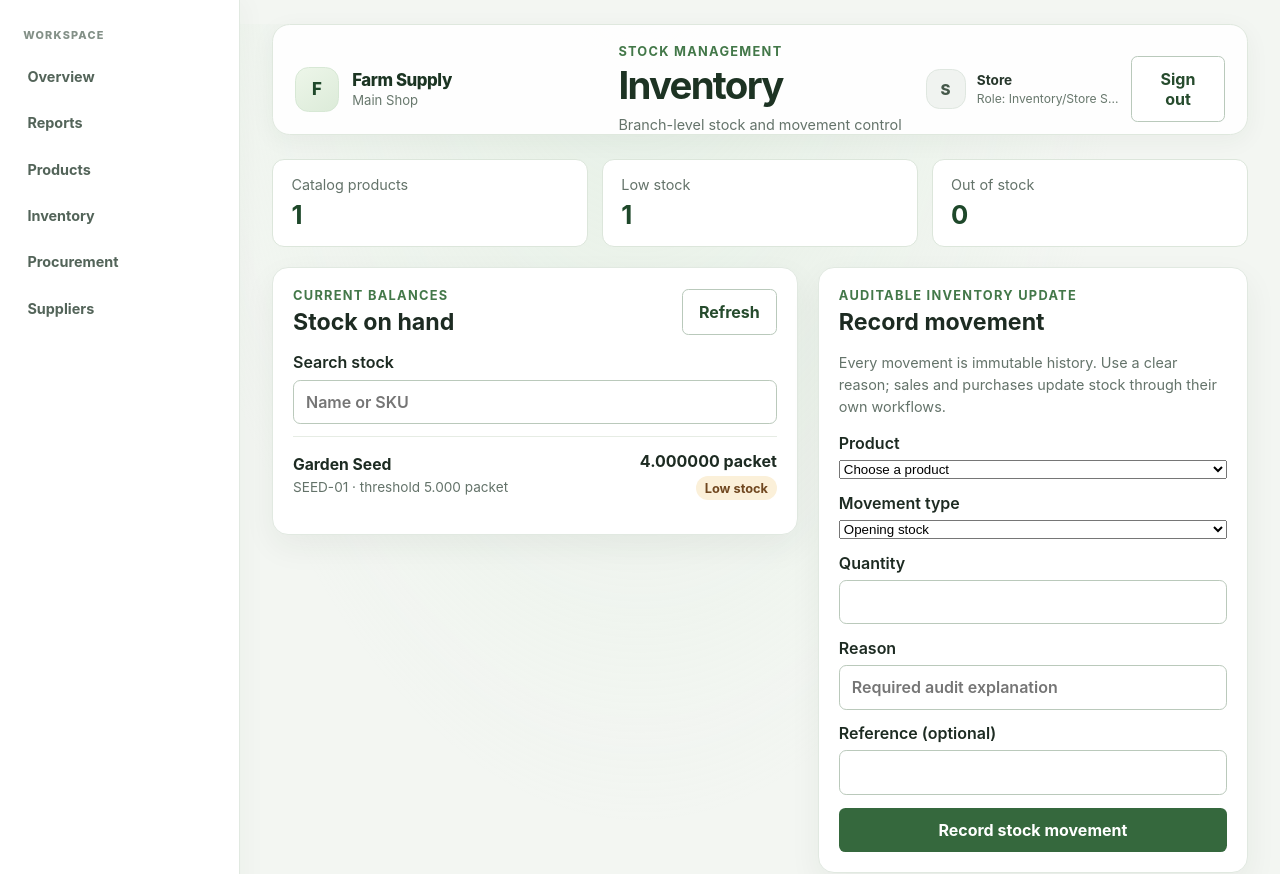
Test: inventory screen › shows low stock and records an attributed manual movement
expect the heading "Stock on hand" is shown: met, box 293,308 -> 454,336
expect the text "Low stock" next to "Out of stock" is shown: met, box 621,176 -> 691,193
Select "Garden Seed · SEED-01" in the dropdown labelled "Product" at [1033, 470], box 839,460 -> 1227,479
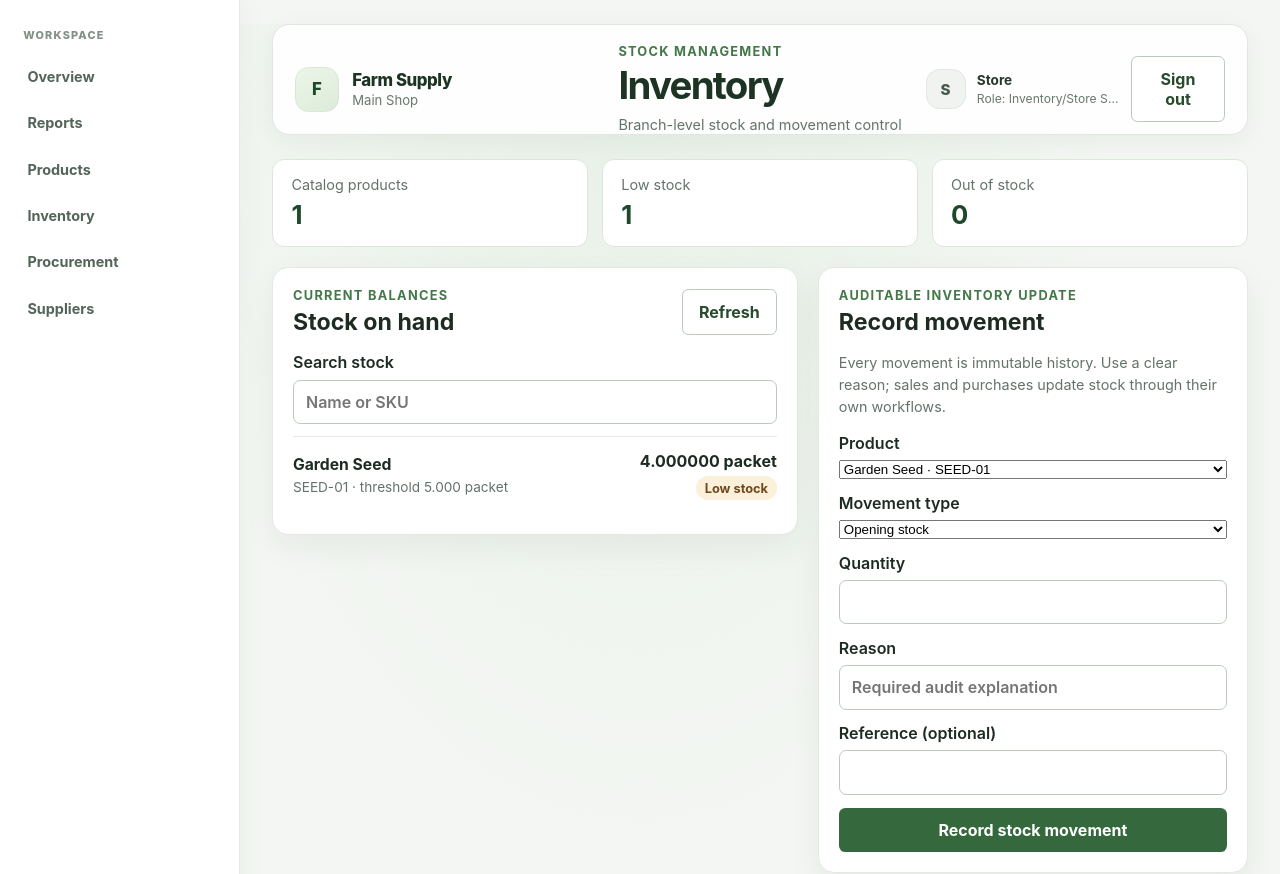
Type "2" into the number field labelled "Quantity" at [1033, 602], box 839,580 -> 1227,624
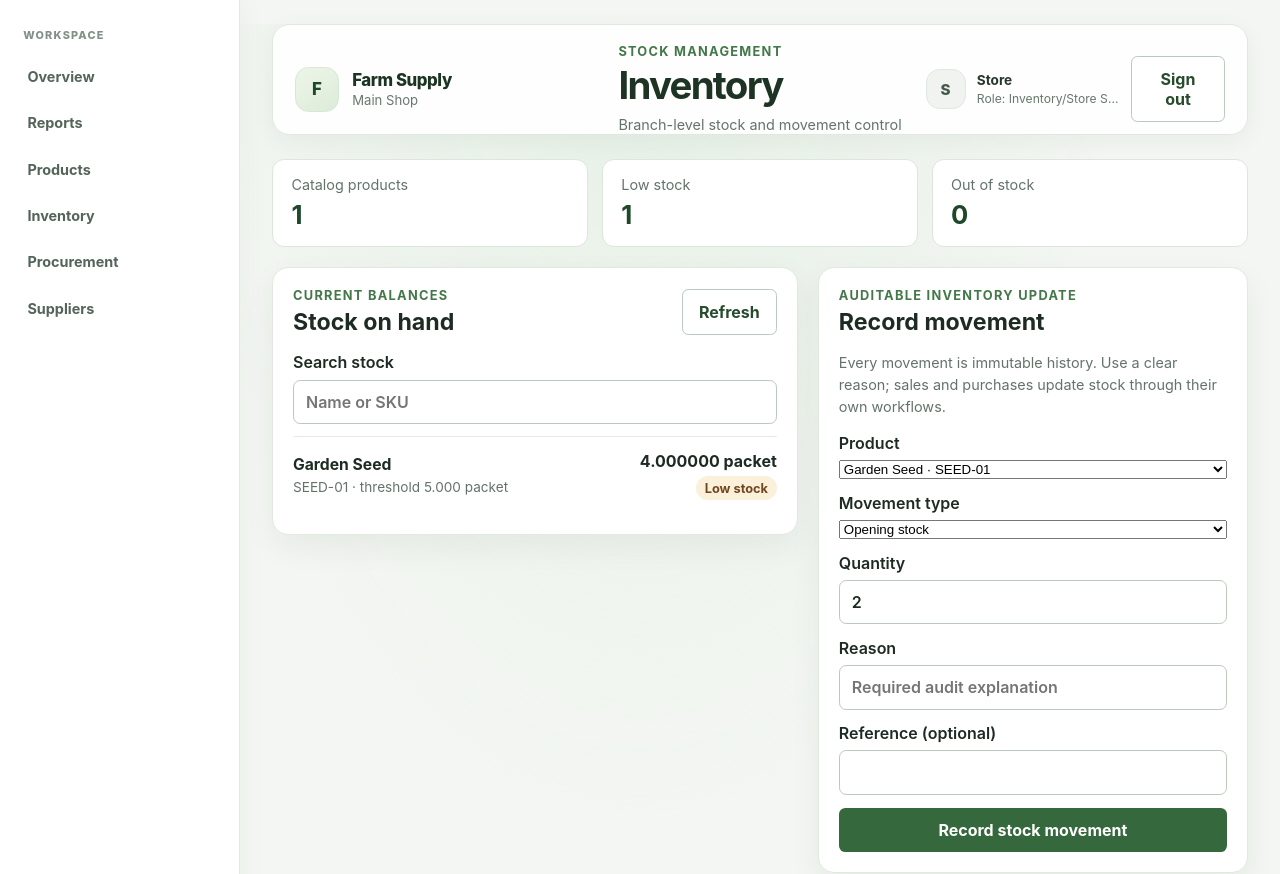
Type "Physical count correction" into the field labelled "Reason" at [1033, 687], box 839,665 -> 1227,710
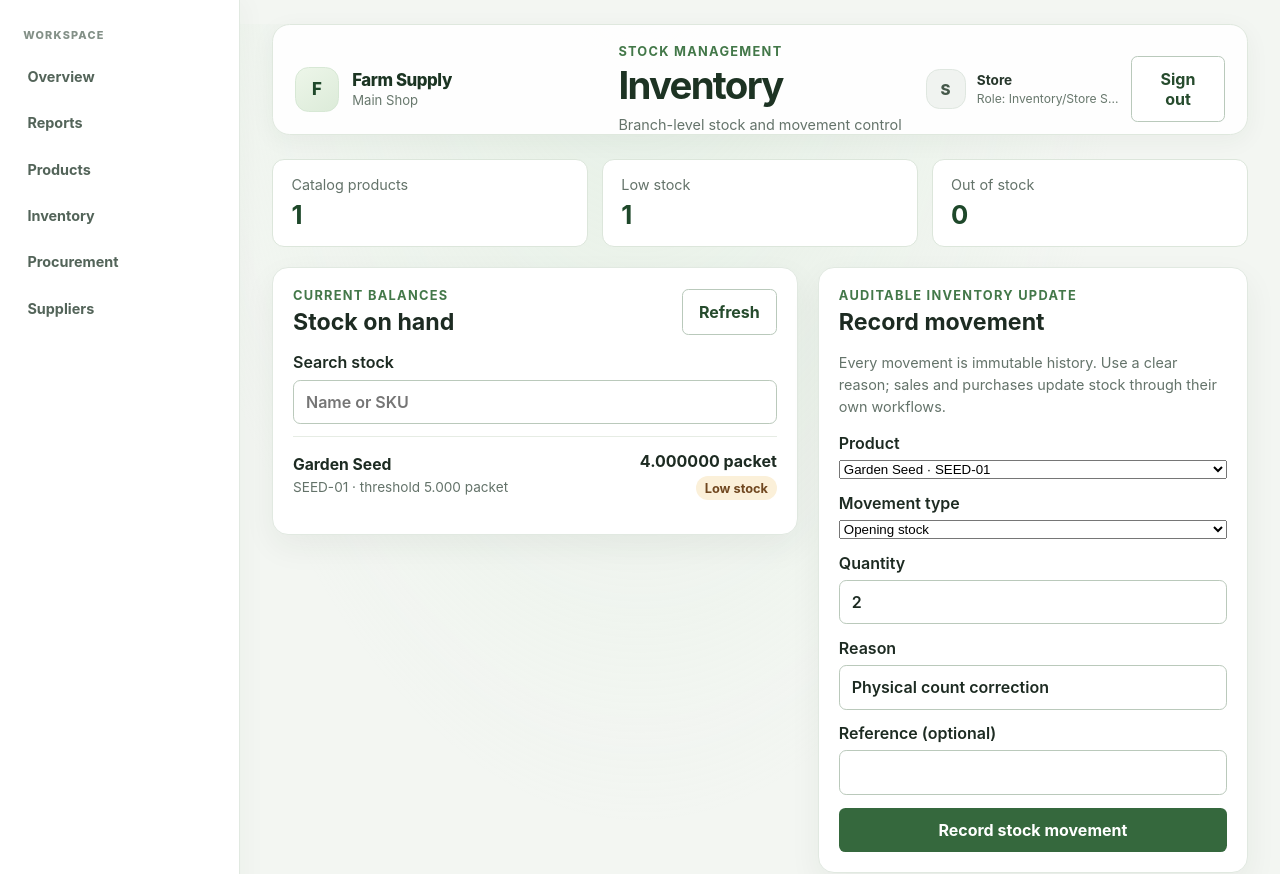
Select "Adjustment in" in the dropdown labelled "Movement type" at [1033, 530], box 839,520 -> 1227,539
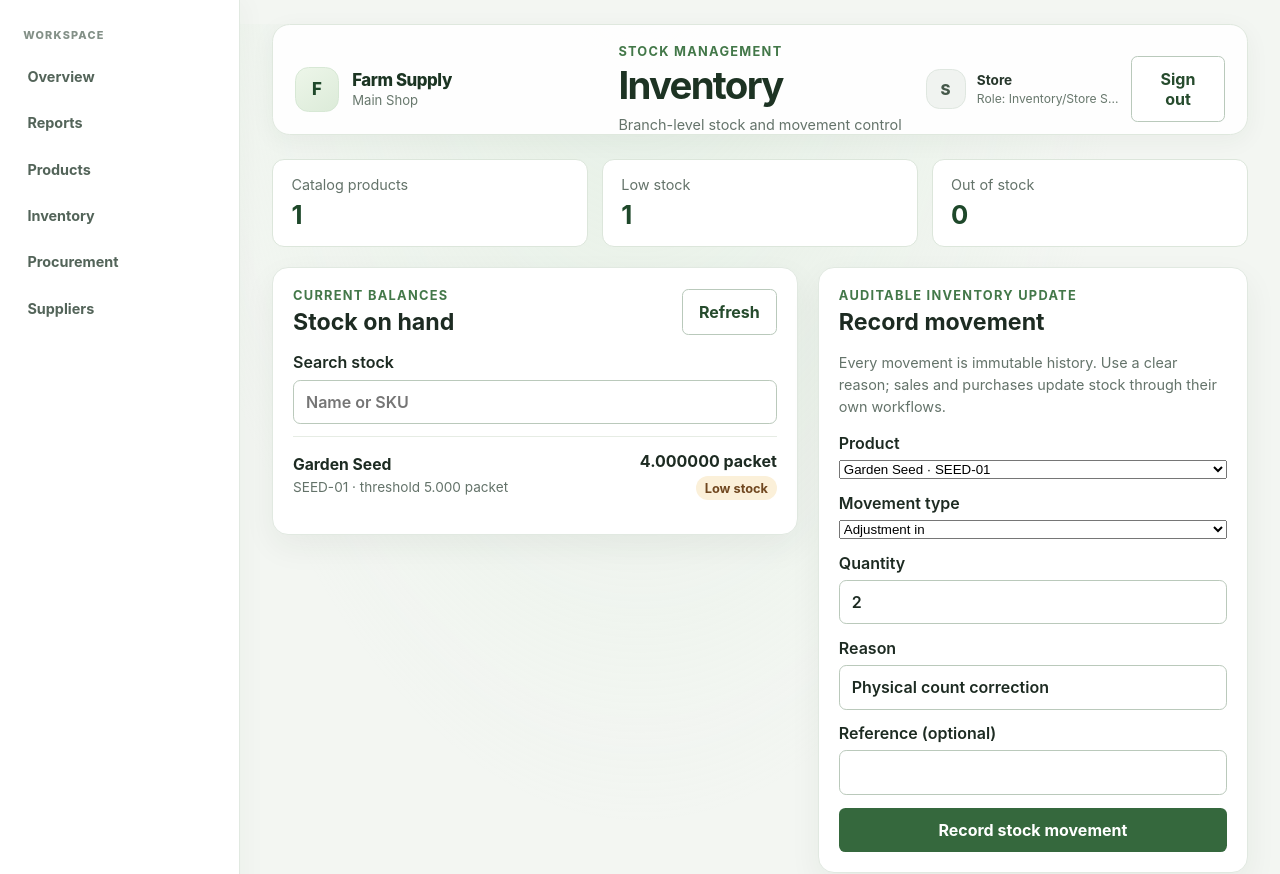
Click the button "Record stock movement" at [1033, 830], box 839,808 -> 1227,852
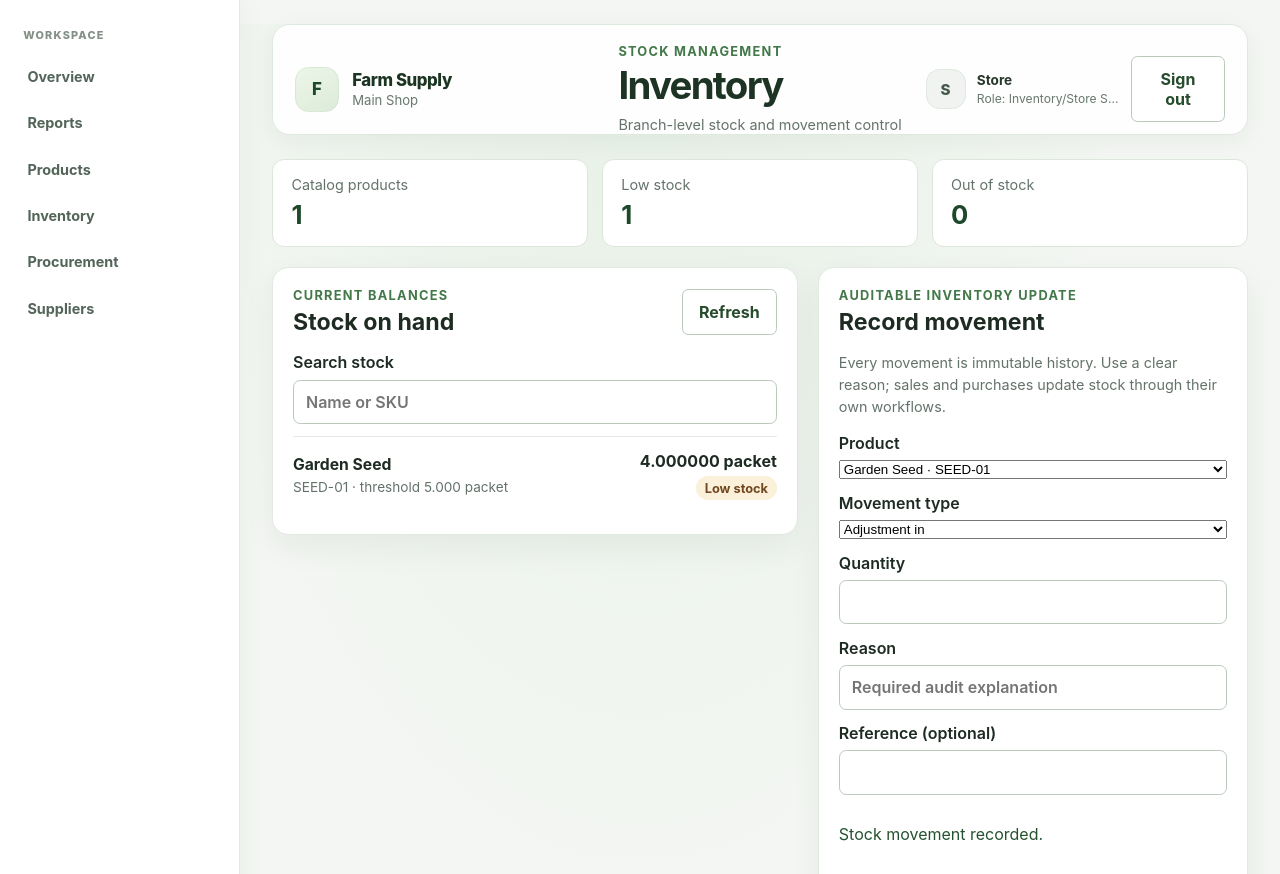
expect the text "Stock movement recorded." is shown: met, box 839,824 -> 1043,844
